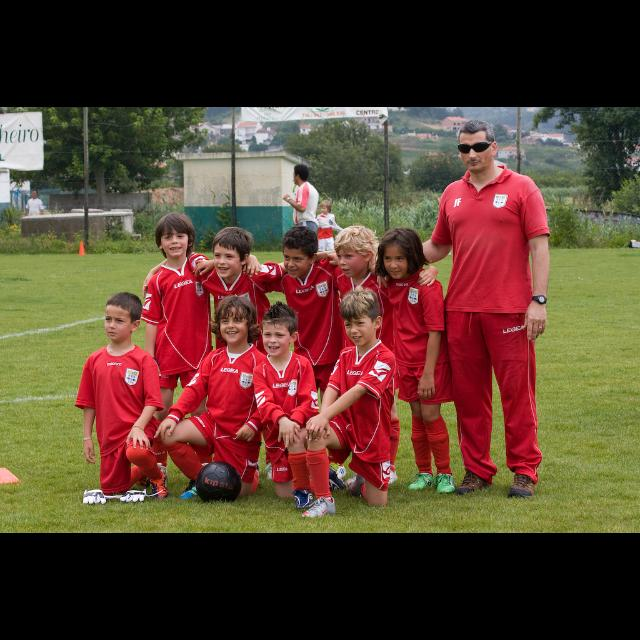Football: (194, 459, 240, 503)
